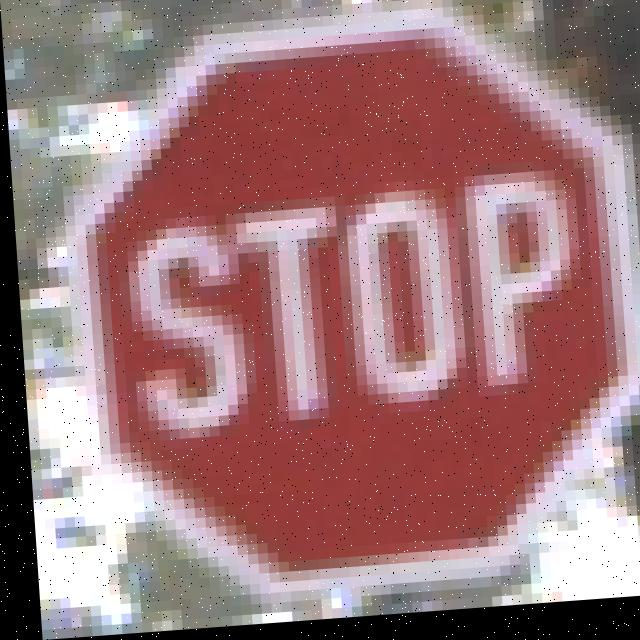stop: (43, 0, 640, 610)
